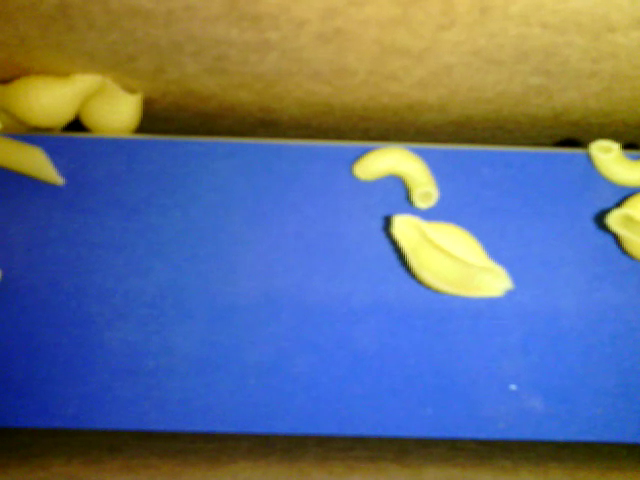elbow: (353, 141, 437, 208), (586, 137, 639, 187)
penne: (1, 139, 72, 186)
shell: (388, 211, 517, 300), (1, 66, 109, 127), (75, 74, 146, 135), (598, 188, 639, 261), (1, 104, 66, 136)
